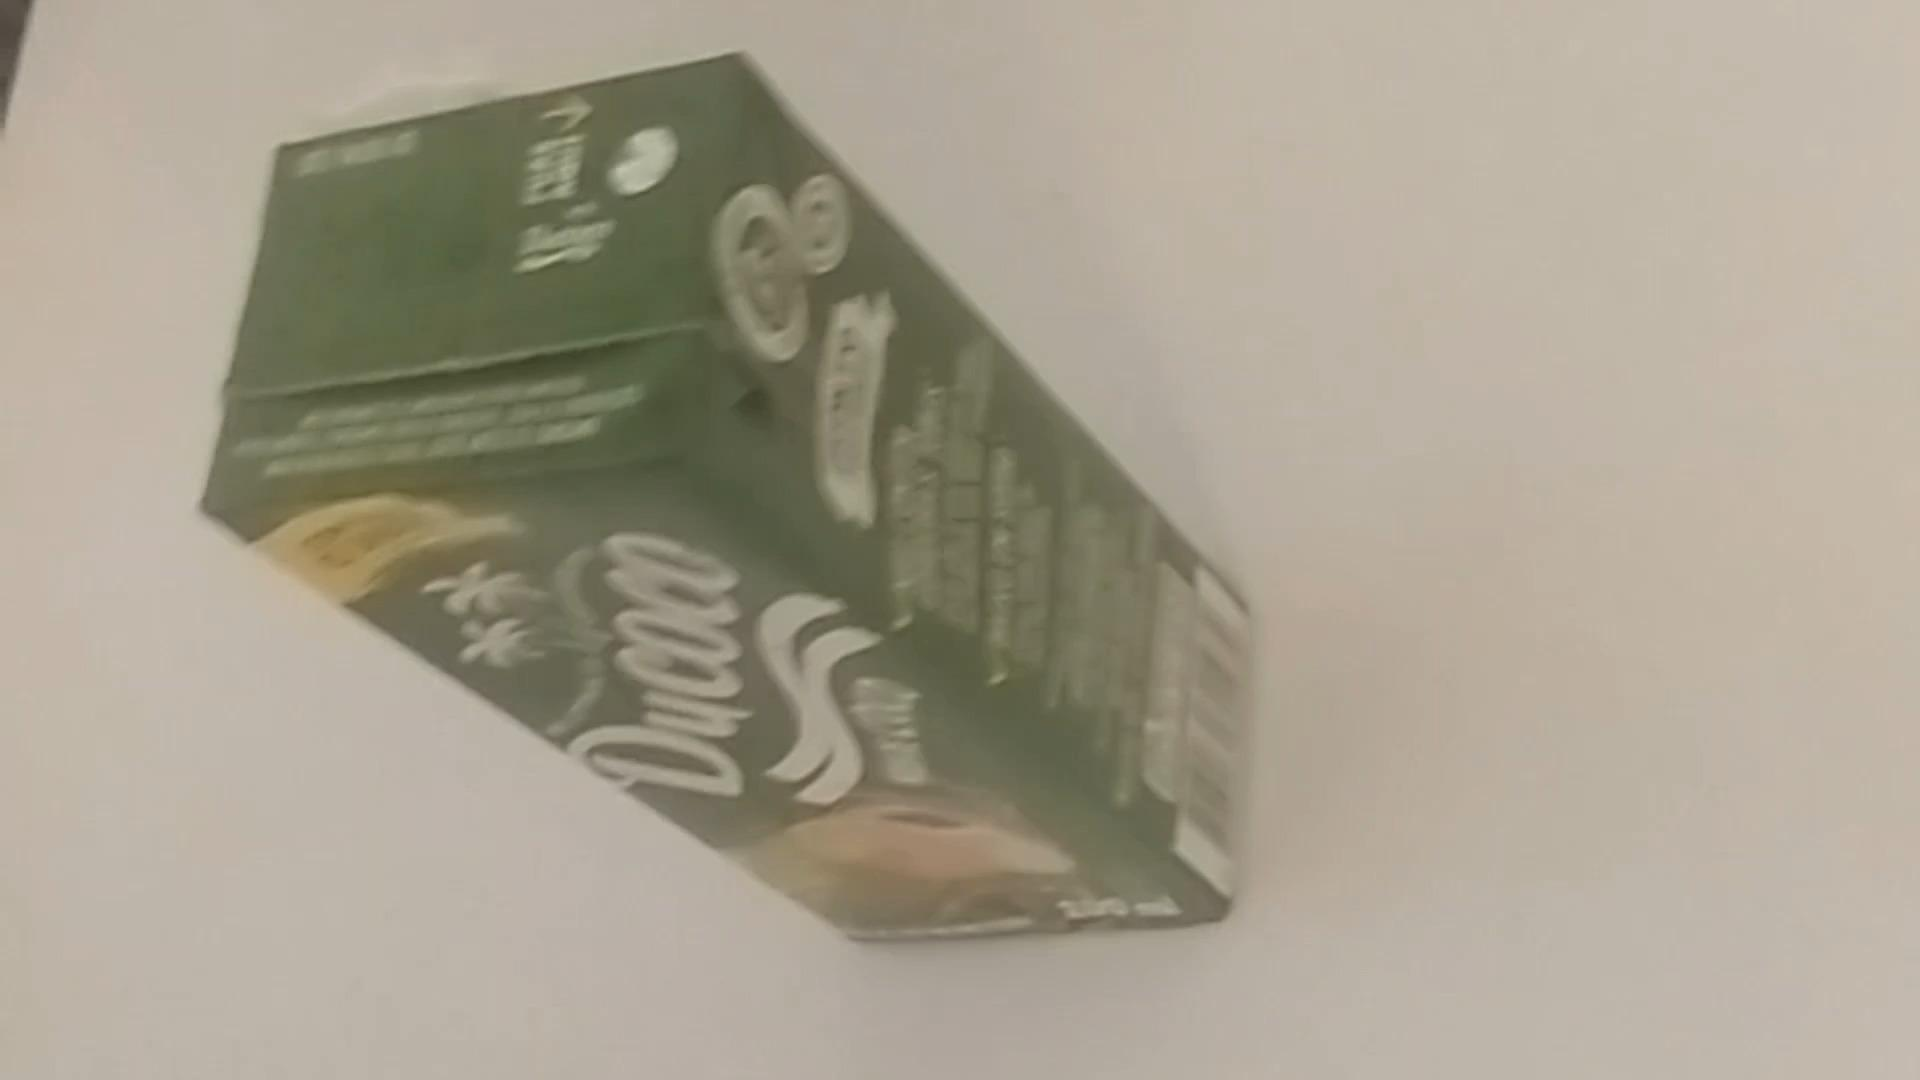coco: (202, 53, 1247, 957)
